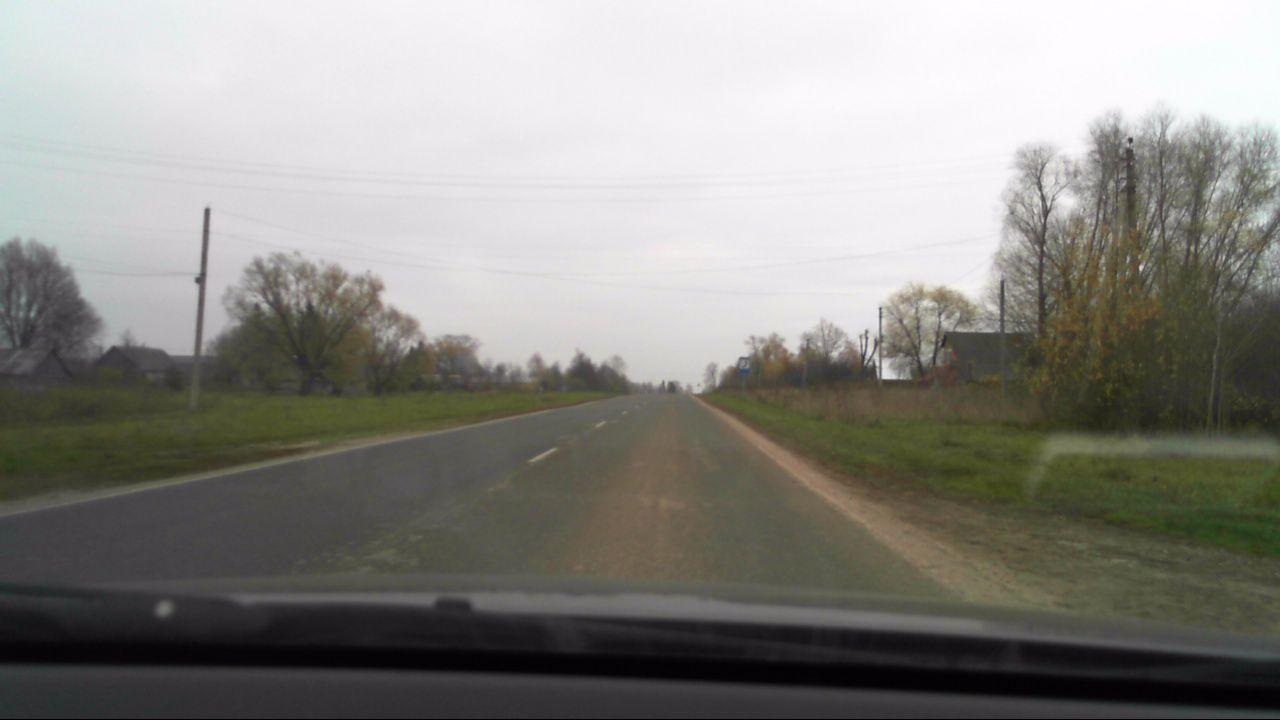7_6: (737, 353, 753, 375)
